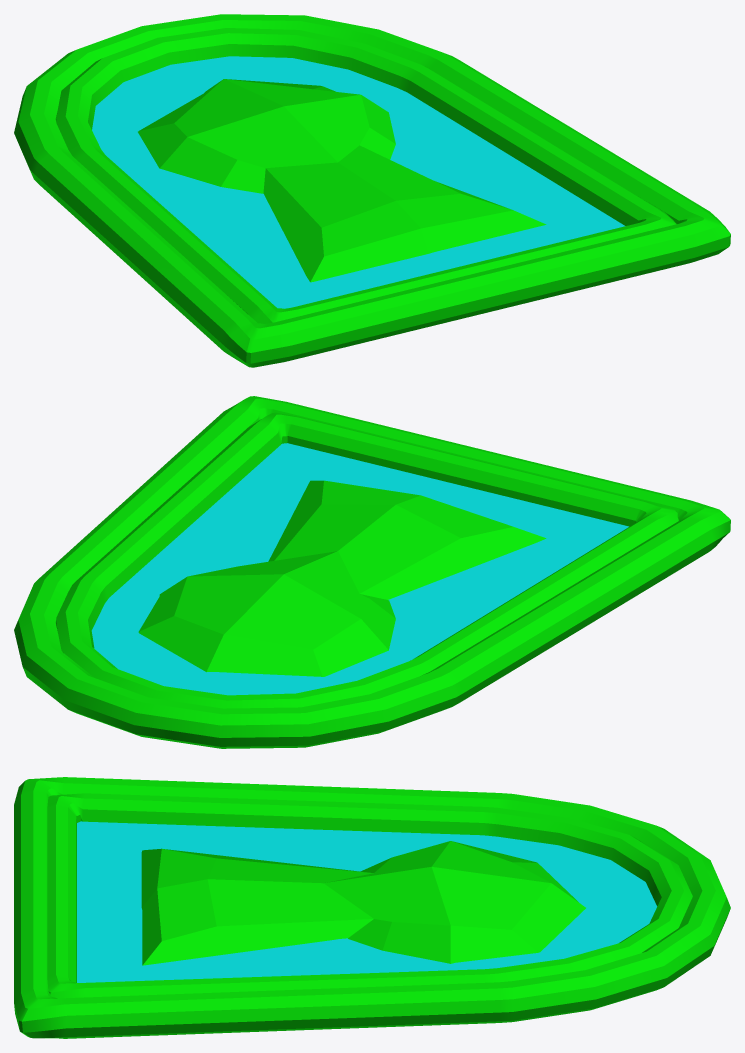
The model's file is JP_KoFun.fbx.
3 renders of one model, top to bottom at view 1: azimuth 30°, elevation 25°; view 2: azimuth 150°, elevation 25°; view 3: azimuth 270°, elevation 25°, orthographic.
Parts seen in each view (by area): view 1: polySurface3, pCube1, pPlane2, polySurface1; view 2: polySurface3, pCube1, pPlane2, polySurface1; view 3: polySurface3, pCube1, pPlane2, polySurface1.
Boxes of the visible parts, x1,y1,x2,y2 form: polySurface3: (14, 14, 730, 367); pCube1: (138, 79, 546, 282); pPlane2: (92, 56, 625, 308); polySurface1: (56, 28, 676, 323); polySurface3: (14, 396, 730, 748); pCube1: (138, 480, 546, 676); pPlane2: (91, 443, 628, 695); polySurface1: (56, 412, 678, 708); polySurface3: (14, 777, 730, 1038); pCube1: (141, 841, 585, 965); pPlane2: (77, 821, 657, 982); polySurface1: (47, 793, 692, 998).
Size of the model in its own units: 14.21 by 1.63 by 17.86.
